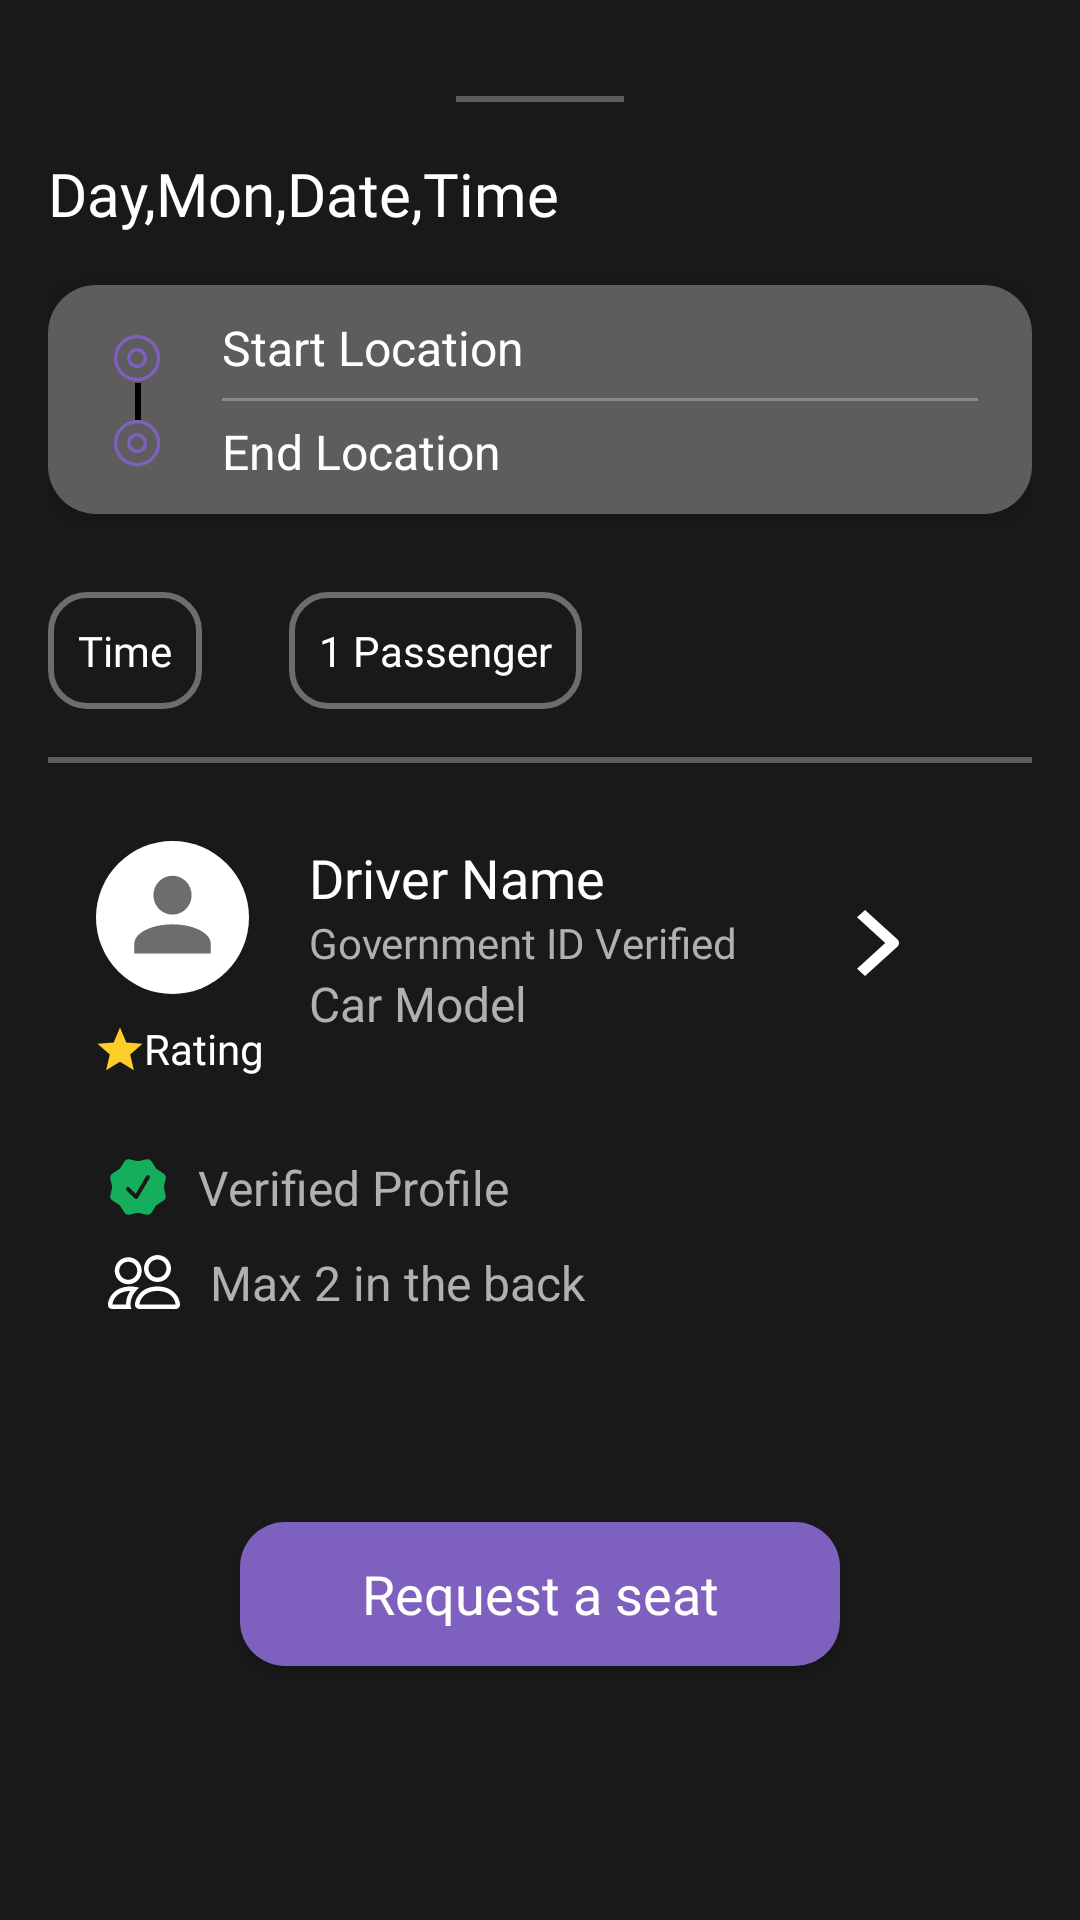

Where icons sit on this 1080 × 1920 app screen, as Rect(x1, y1, x2, y2):
profile: Rect(96, 841, 249, 994)
